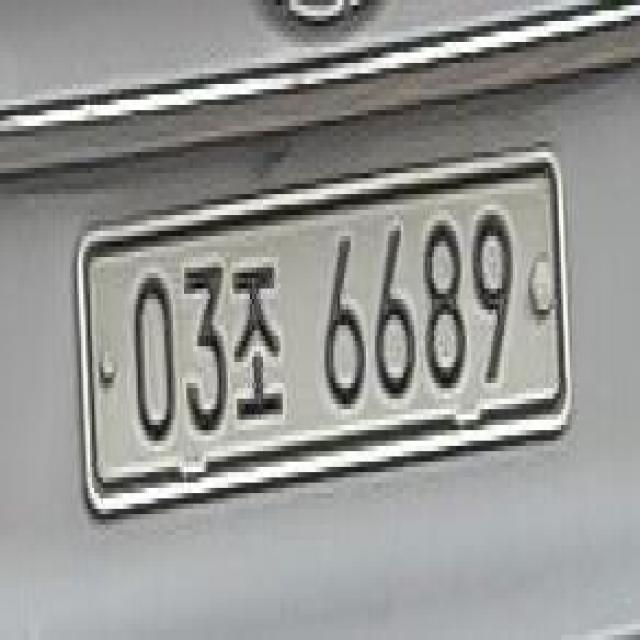illegal_plate: (76, 141, 573, 524)
